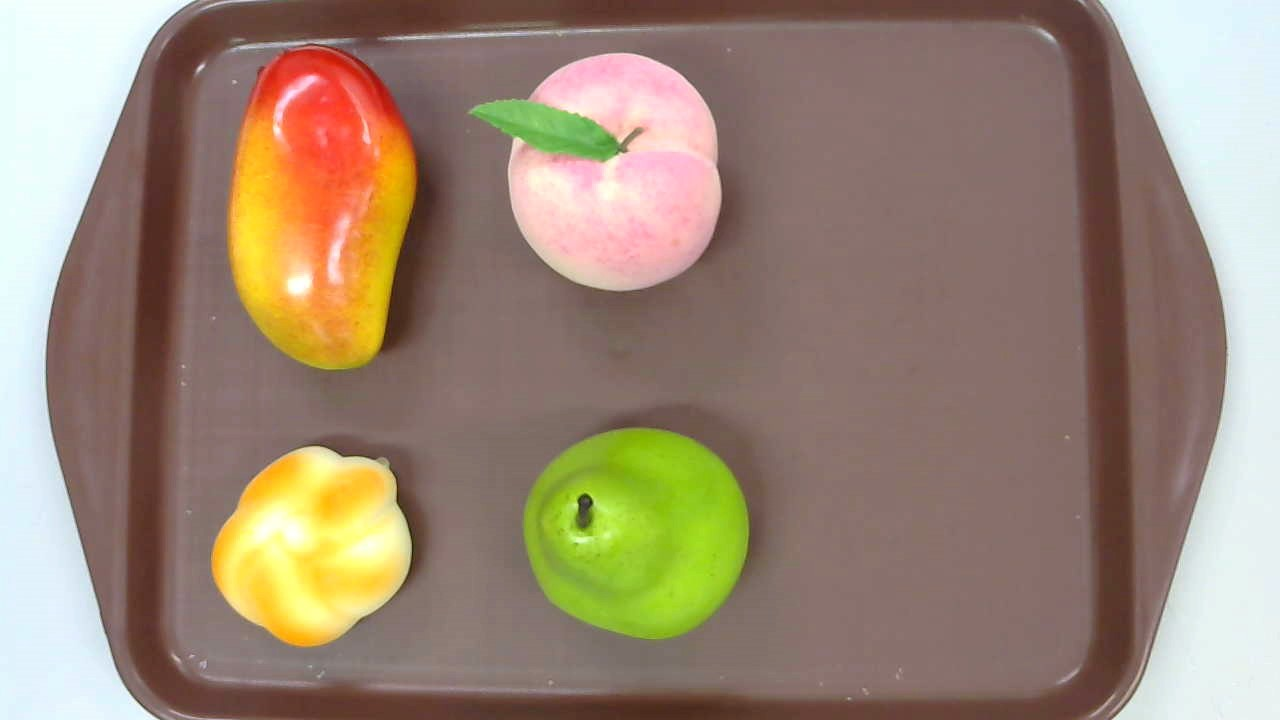green pear: (521, 427, 749, 639)
peach: (466, 52, 723, 293)
red mango: (228, 43, 416, 372)
twist bread: (211, 447, 411, 647)
